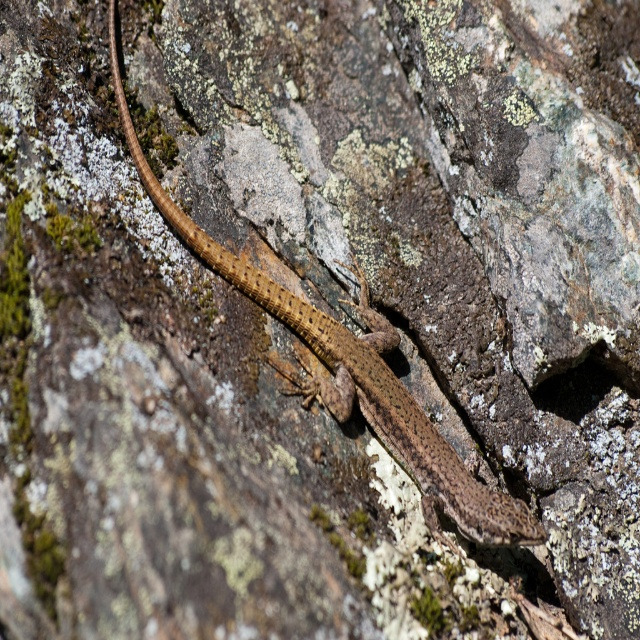Lizard: (112, 110, 557, 586)
